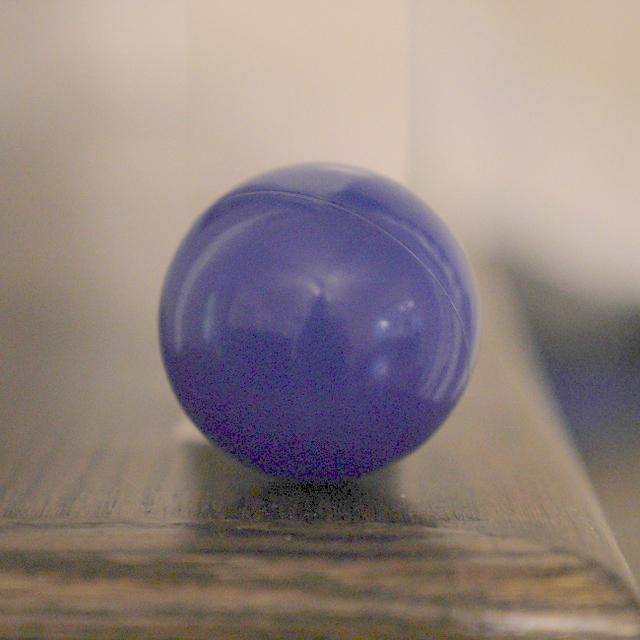Ball: (158, 160, 479, 479)
